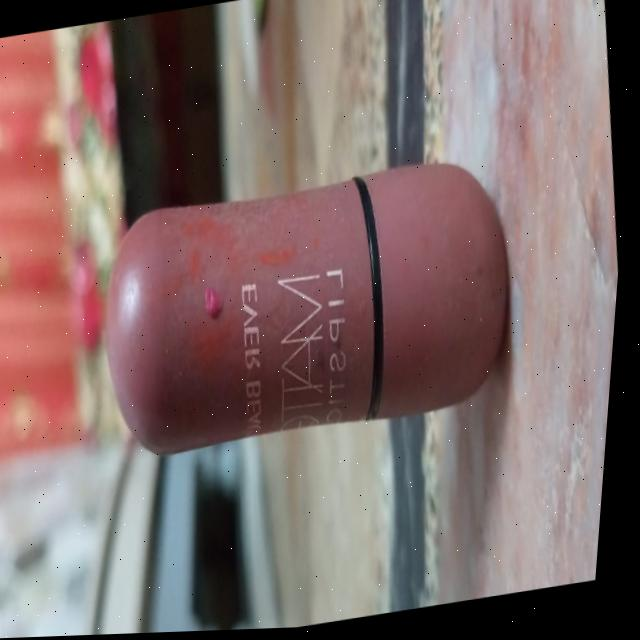lip stick: (74, 137, 550, 492)
